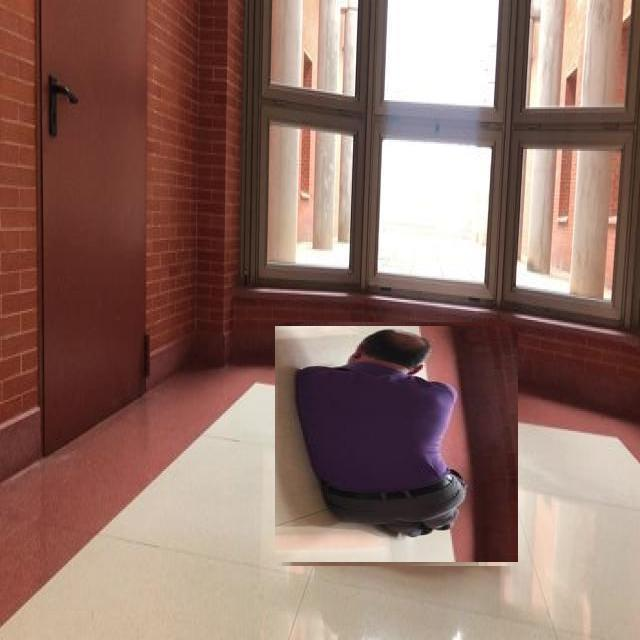Fall: (254, 283, 508, 554)
